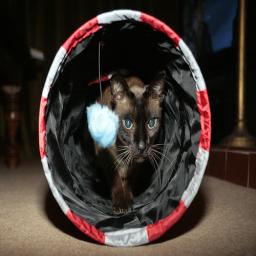catnose: (134, 136, 148, 154)
